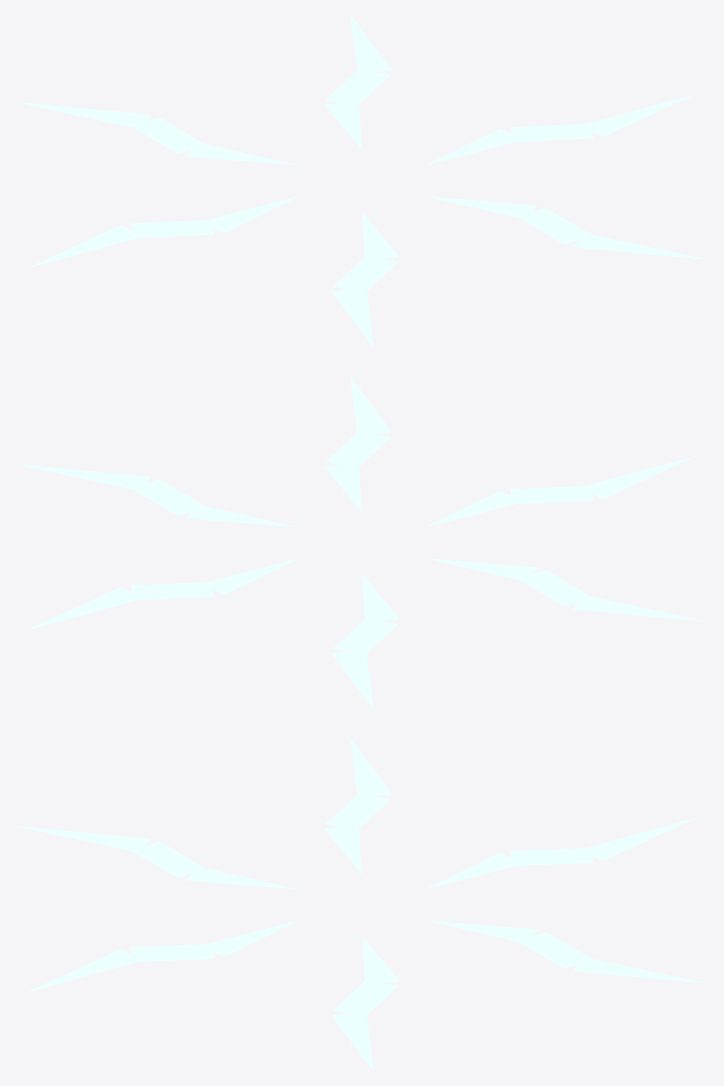
File: contact_frost.glb
The picture shows the model from 3 angles, top to bottom: view 1: azimuth 30°, elevation 25°; view 2: azimuth 150°, elevation 25°; view 3: azimuth 270°, elevation 25°; orthographic projection.
Visible parts, largest first — view 1: contact_frost sparse contact artwork; view 2: contact_frost sparse contact artwork; view 3: contact_frost sparse contact artwork.
Boxes of the visible parts, <box> form: contact_frost sparse contact artwork: <box>15,14,708,347</box>; contact_frost sparse contact artwork: <box>15,376,708,709</box>; contact_frost sparse contact artwork: <box>15,738,708,1071</box>.
Size of the model in its own units: 0.9796 by 0 by 0.863.
